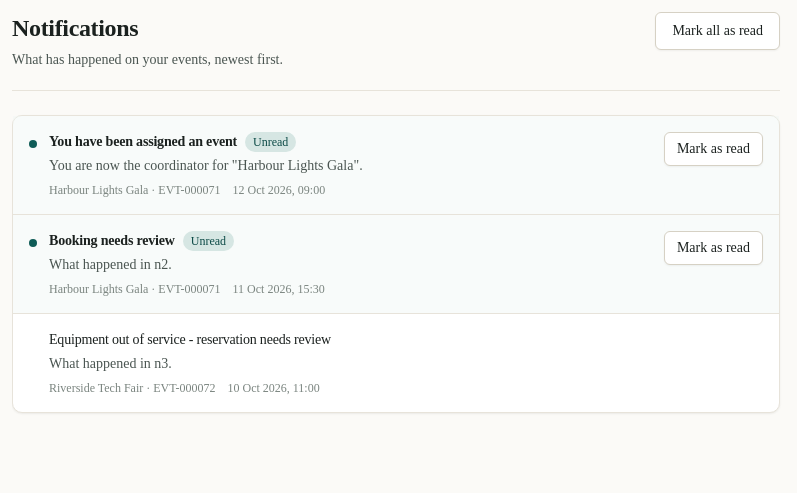
Test: Notifications page (SPM-71) › marking as read › [SPM-71][AC4] keeps a notification unread, and says so, when marking it fails
Click the button "Mark as read" in the row of "Booking needs review" at (713,248), box [664, 231, 763, 265]
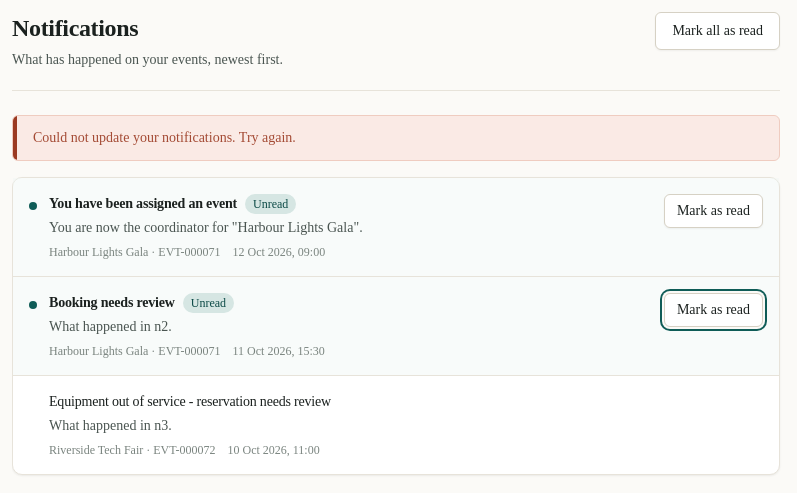
expect the text "Unread" next to "Booking needs review" is shown: met, box [191, 296, 226, 310]
expect the message reads "Could not update your notifications. Try again.": met, box [33, 130, 296, 145]
